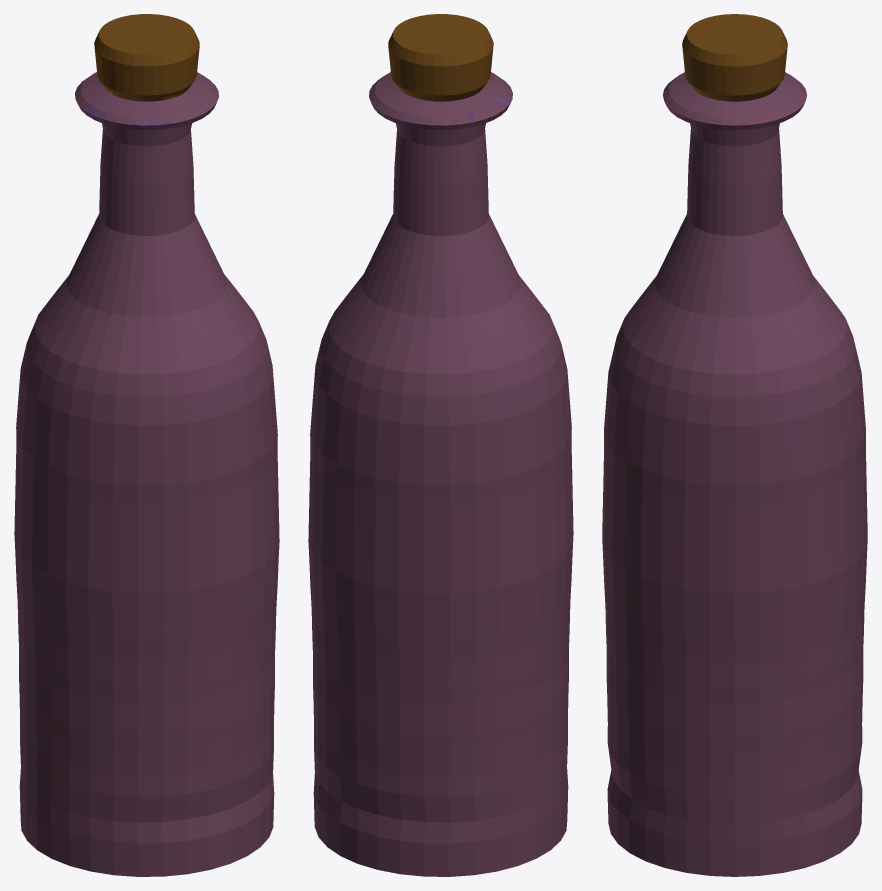
File: WineBottle.fbx
3 renders of one model, left to right at view 1: azimuth 30°, elevation 25°; view 2: azimuth 150°, elevation 25°; view 3: azimuth 270°, elevation 25°, orthographic.
Parts seen in each view (by area): view 1: Cylinder; view 2: Cylinder; view 3: Cylinder.
Boxes of the visible parts, x1,y1,x2,y2 form: Cylinder: (14, 14, 279, 876); Cylinder: (308, 14, 573, 876); Cylinder: (602, 14, 867, 876).
Bounding box in the file's own units: 6.38 × 20.95 × 6.38.
